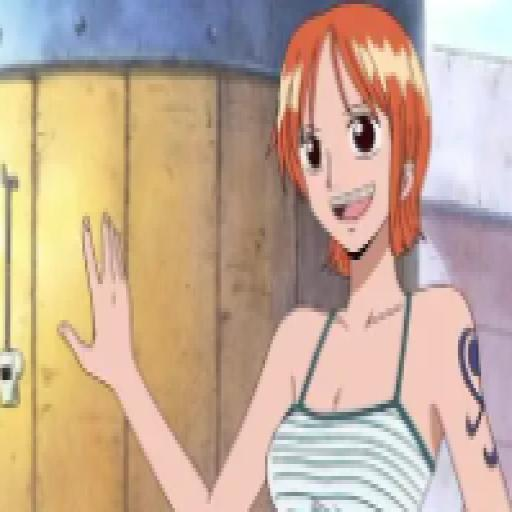Nami: (55, 5, 512, 512)
